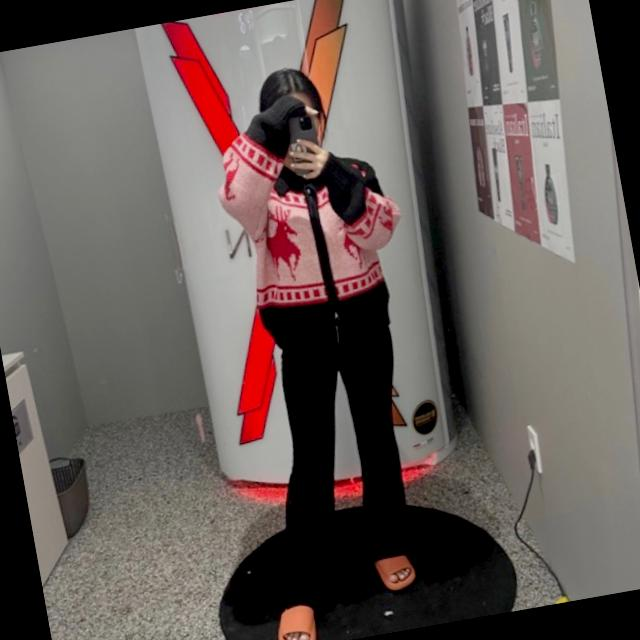cardigan: (204, 80, 424, 367)
denimpants: (241, 319, 434, 605)
